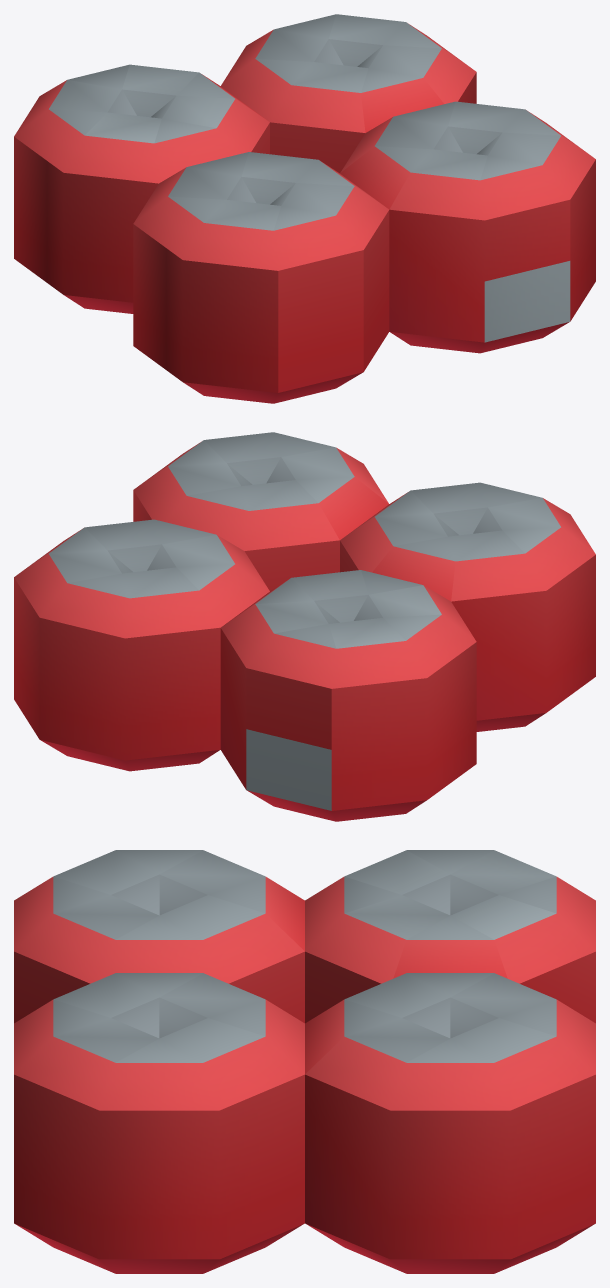
The model's file is containers_D.obj.
The picture shows the model from 3 angles, top to bottom: view 1: azimuth 30°, elevation 25°; view 2: azimuth 150°, elevation 25°; view 3: azimuth 270°, elevation 25°; orthographic projection. The views are drawn at different scales.
Bounding box in the file's own units: 0.5 × 0.2 × 0.5.
Materials: 1 (1 with a texture image).
